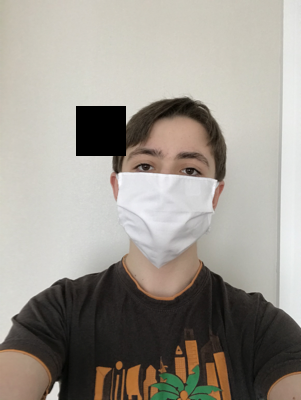with_mask: (114, 139, 219, 270)
